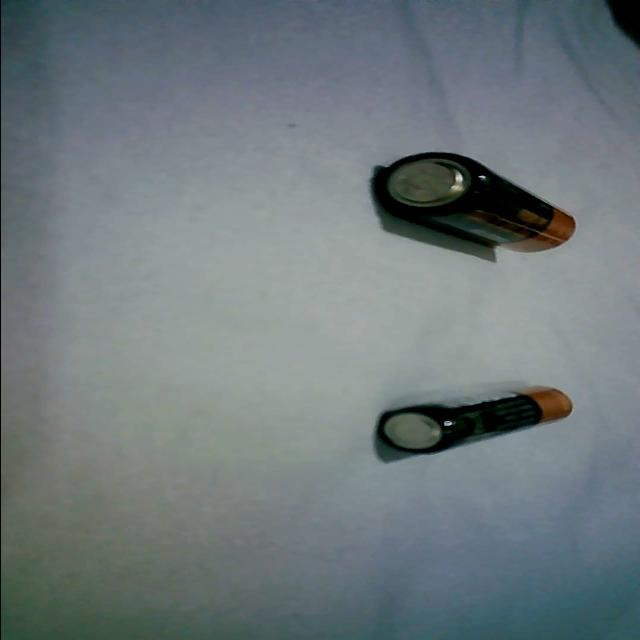AA: (362, 148, 590, 254)
AAA: (366, 380, 579, 459)
